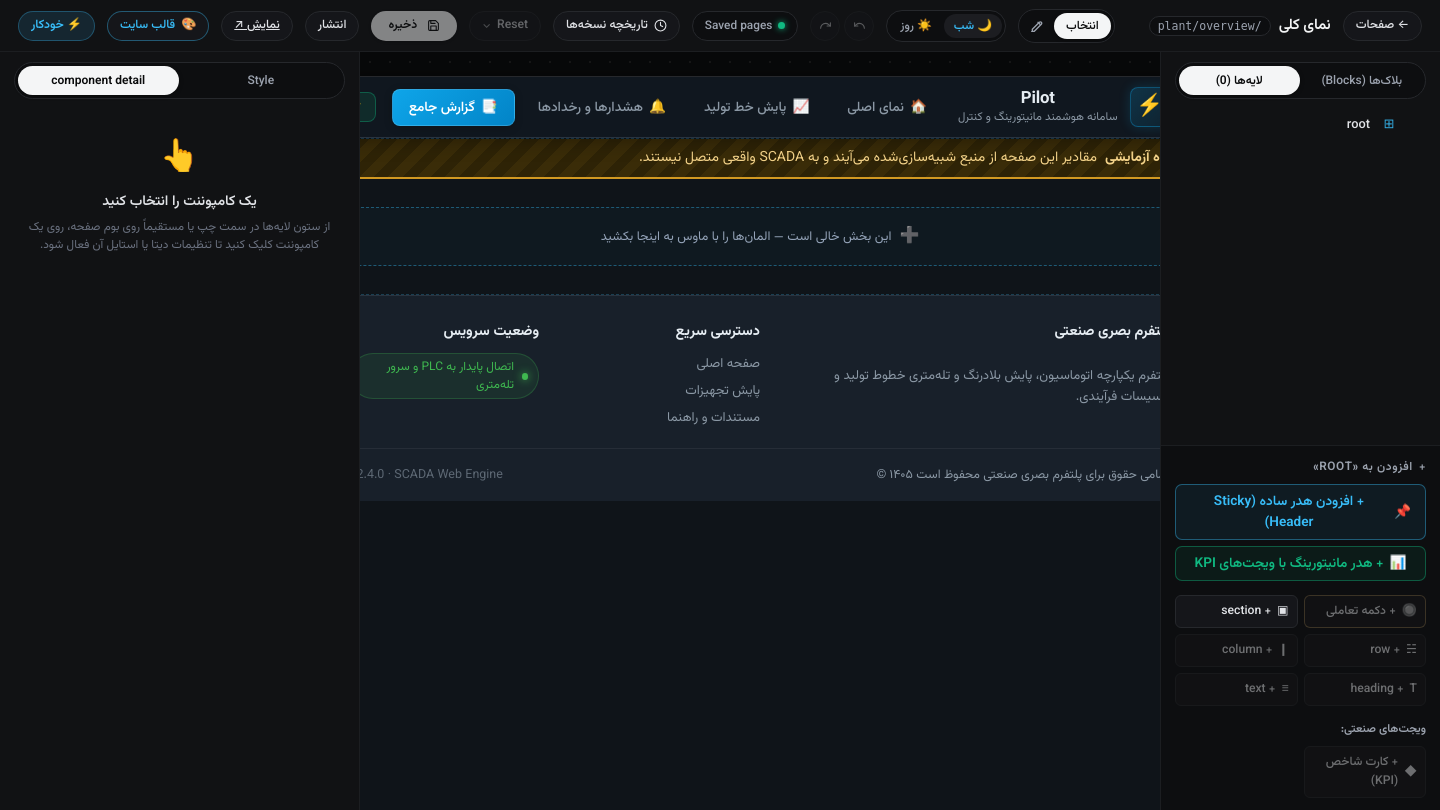
Test: editor-lite: build, bind, save, publish without writing code (AT-2 UI path) › shows a conflict instead of overwriting when someone else saved (412)
Expected: the button "root" is shown, [1181, 113, 1374, 137]
Step 1. Click the button "▣ + section" → (1236, 612), box [1175, 595, 1298, 628]
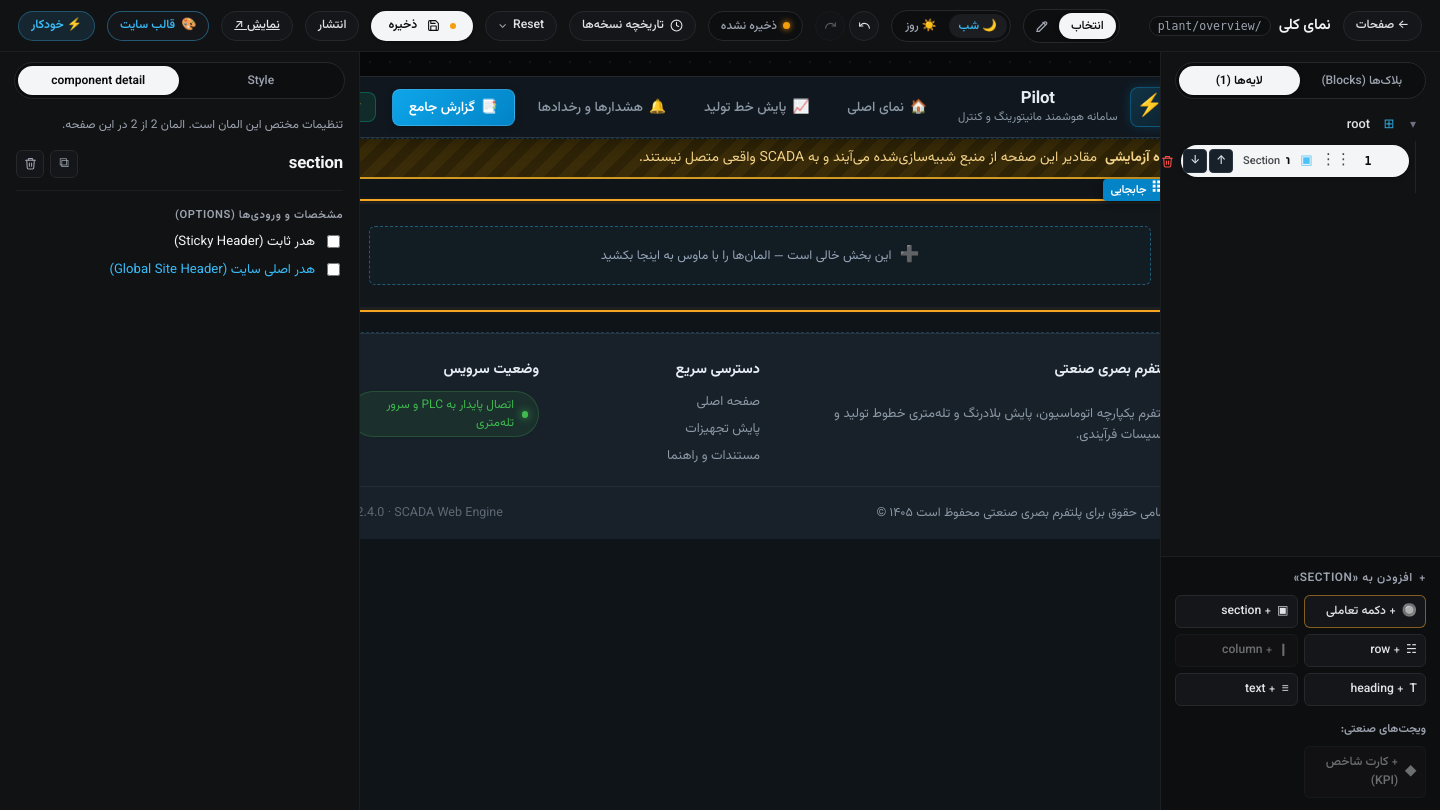
Step 2. Click the button "ذخیره" → (422, 26), box [371, 10, 473, 40]
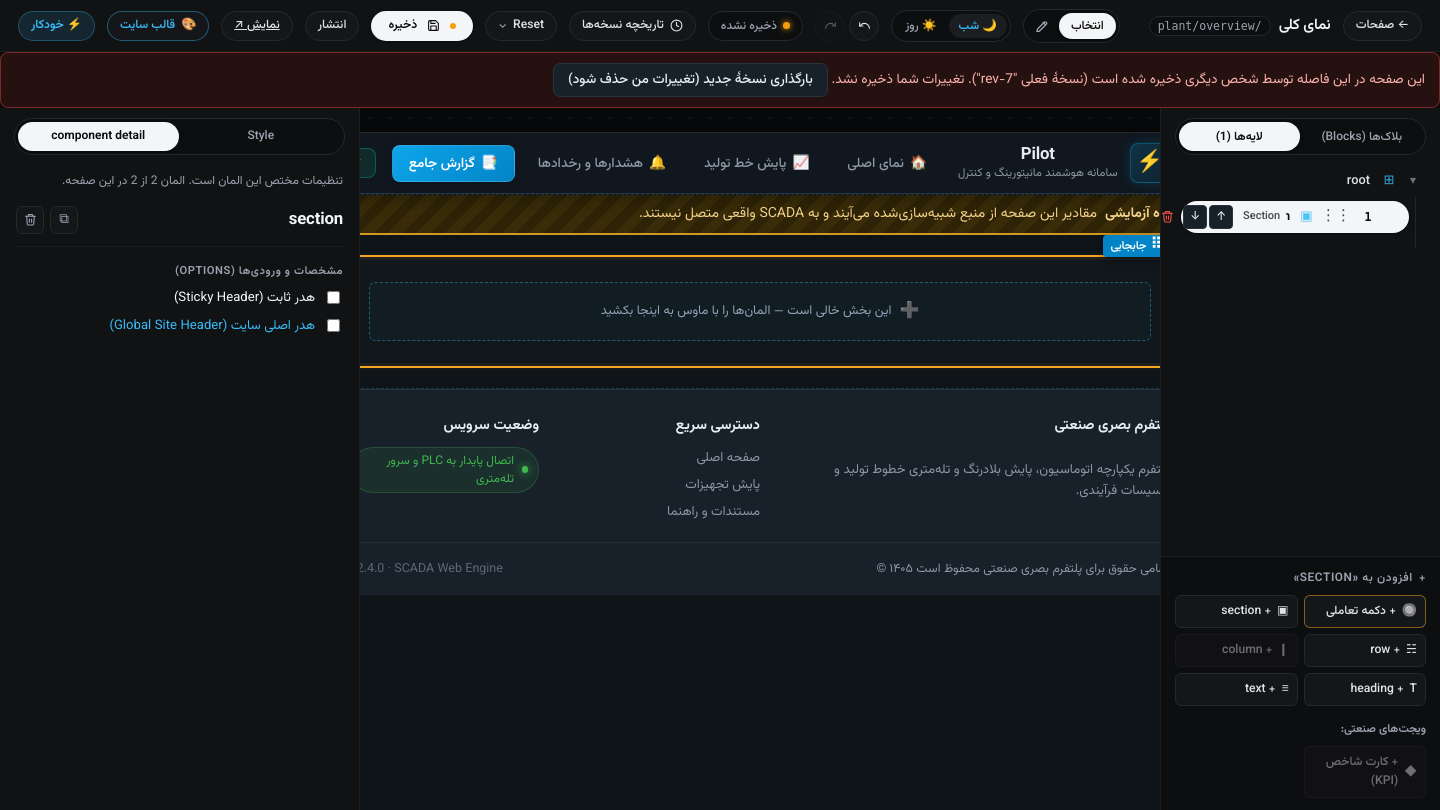
Now the button "ذخیره" is enabled, box [371, 10, 473, 40]
Now the text "تغییرات شما ذخیره نشد" shows "\"rev-7\"", box [976, 69, 1017, 90]
